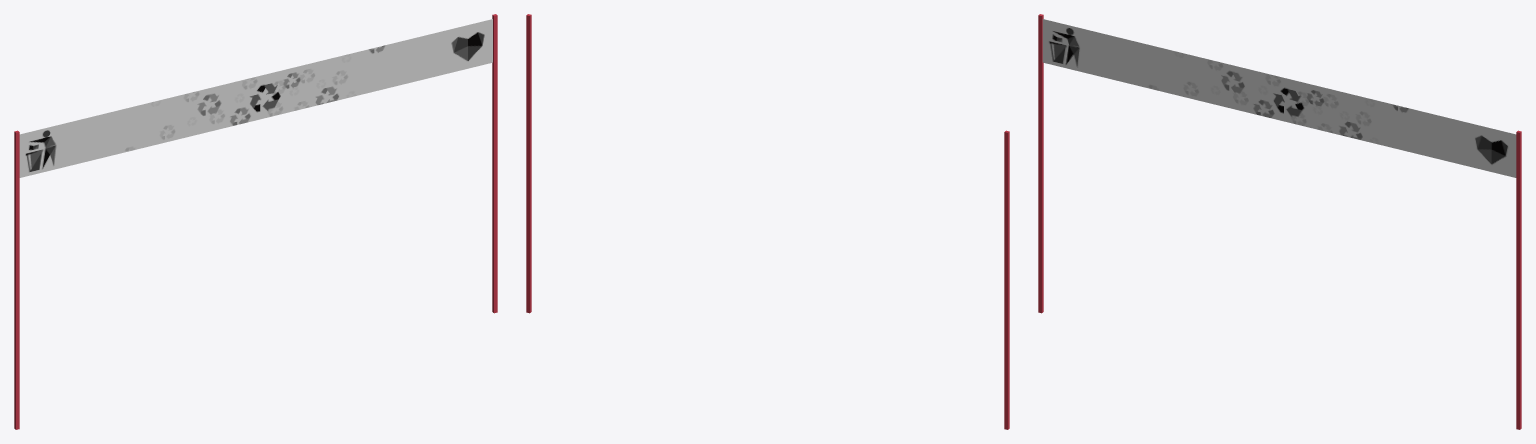
File: banner.gltf
The picture shows the model from 3 angles, left to right: view 1: azimuth 30°, elevation 25°; view 2: azimuth 150°, elevation 25°; view 3: azimuth 330°, elevation 25°; orthographic projection.
Parts seen in each view (by area): view 1: Cube.006; view 2: Cube.006; view 3: Cube.006.
Part boxes in pixels (x1,y1,x2,y2): Cube.006: [14, 14, 497, 429]; Cube.006: [526, 14, 1009, 429]; Cube.006: [1038, 14, 1521, 429].
Size of the model in its own units: 5.05 by 2.98 by 0.0328.
Materials: 2 (1 with a texture image).
